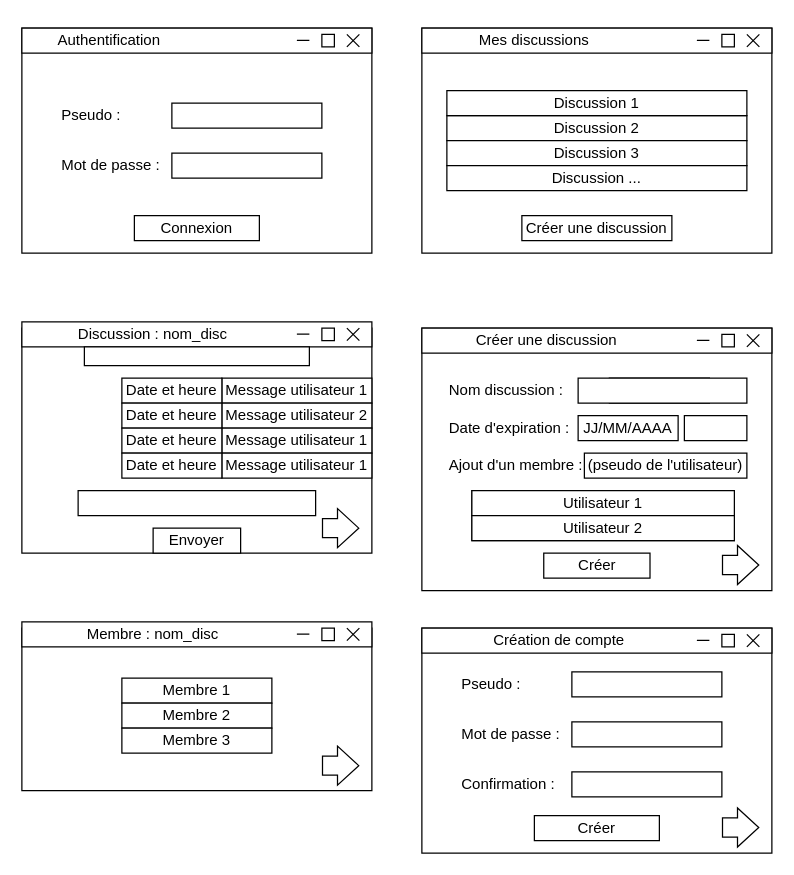
The diagram is 794 pixels wide and 875 high, and some of its shapes have lost their labels. Here are the shapes that lost their labels. From the top down, the centre of each, then its label:
At pixel 196 356: "Voir les membres".
At pixel 715 427: "H:MIN".
At pixel 196 502: "Taper ici pour écrire".
